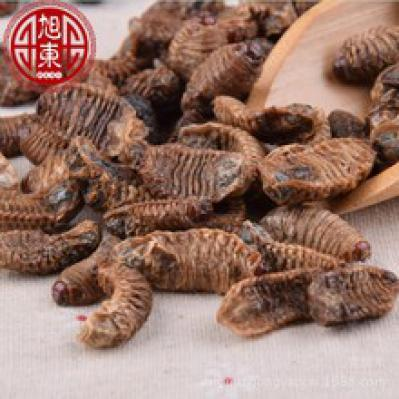grub: (85, 259, 157, 351)
